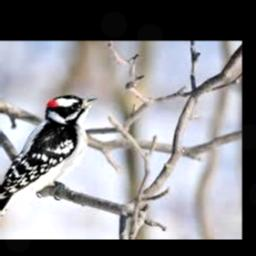Woodpecker: (0, 95, 100, 230)
